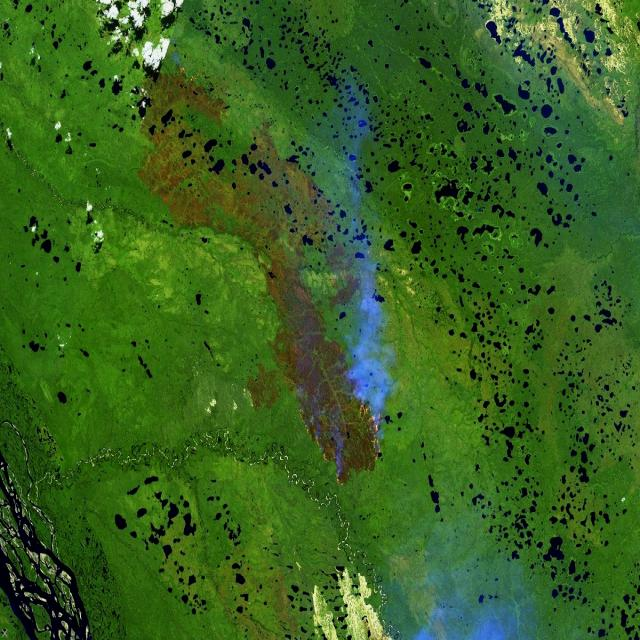fire: (293, 379, 382, 502)
